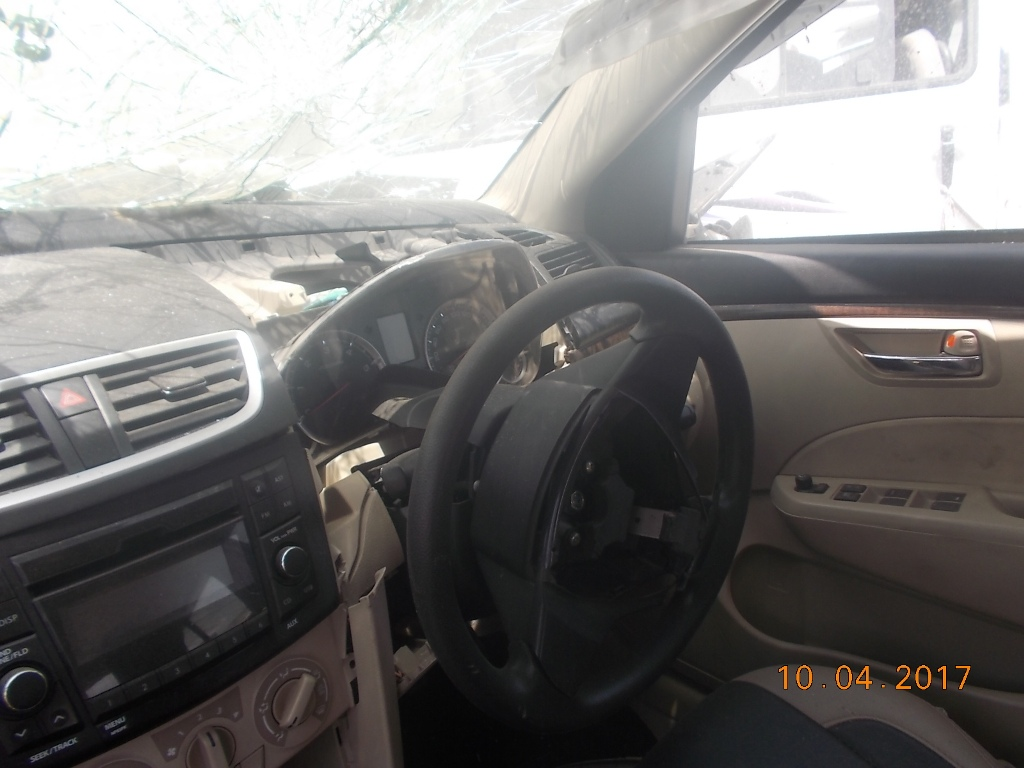Shatter: (2, 2, 513, 176)
